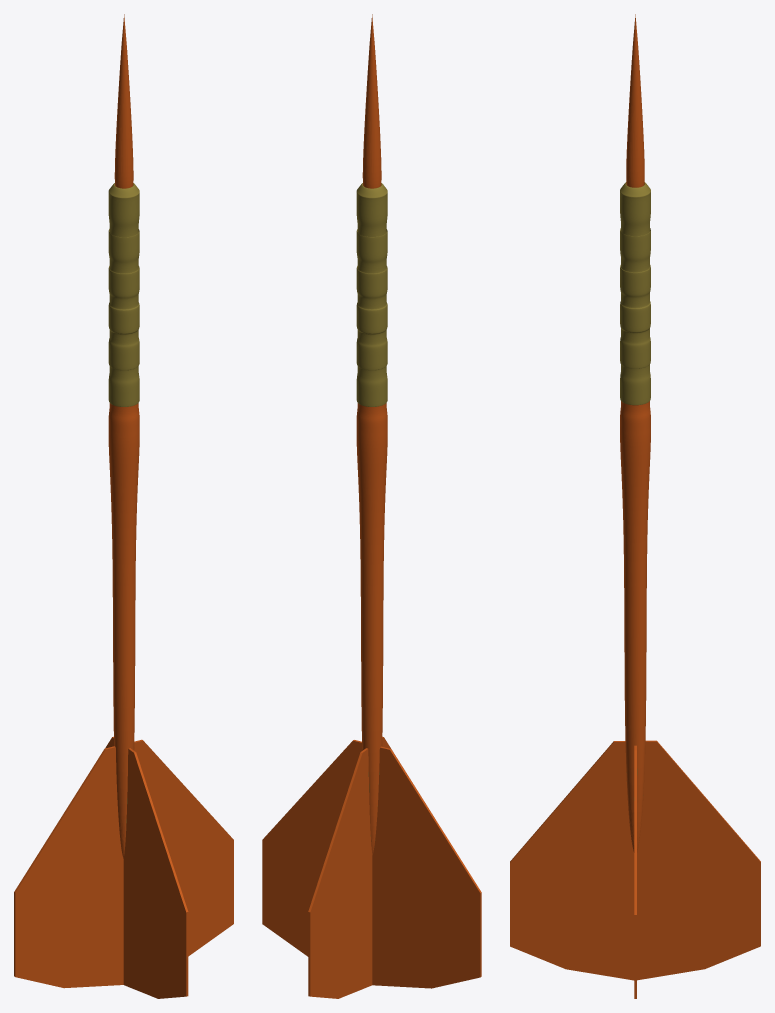
Rendered from Dart_orange.fbx.
The picture shows the model from 3 angles, left to right: view 1: azimuth 30°, elevation 25°; view 2: azimuth 150°, elevation 25°; view 3: azimuth 270°, elevation 25°; orthographic projection.
Visible parts, largest first — view 1: body; view 2: body; view 3: body.
Boxes of the visible parts, x1,y1,x2,y2 form: body: (14,14,233,998); body: (262,14,481,998); body: (510,14,760,998).
Bounding box in the file's own units: 28.45 × 121 × 28.45.
